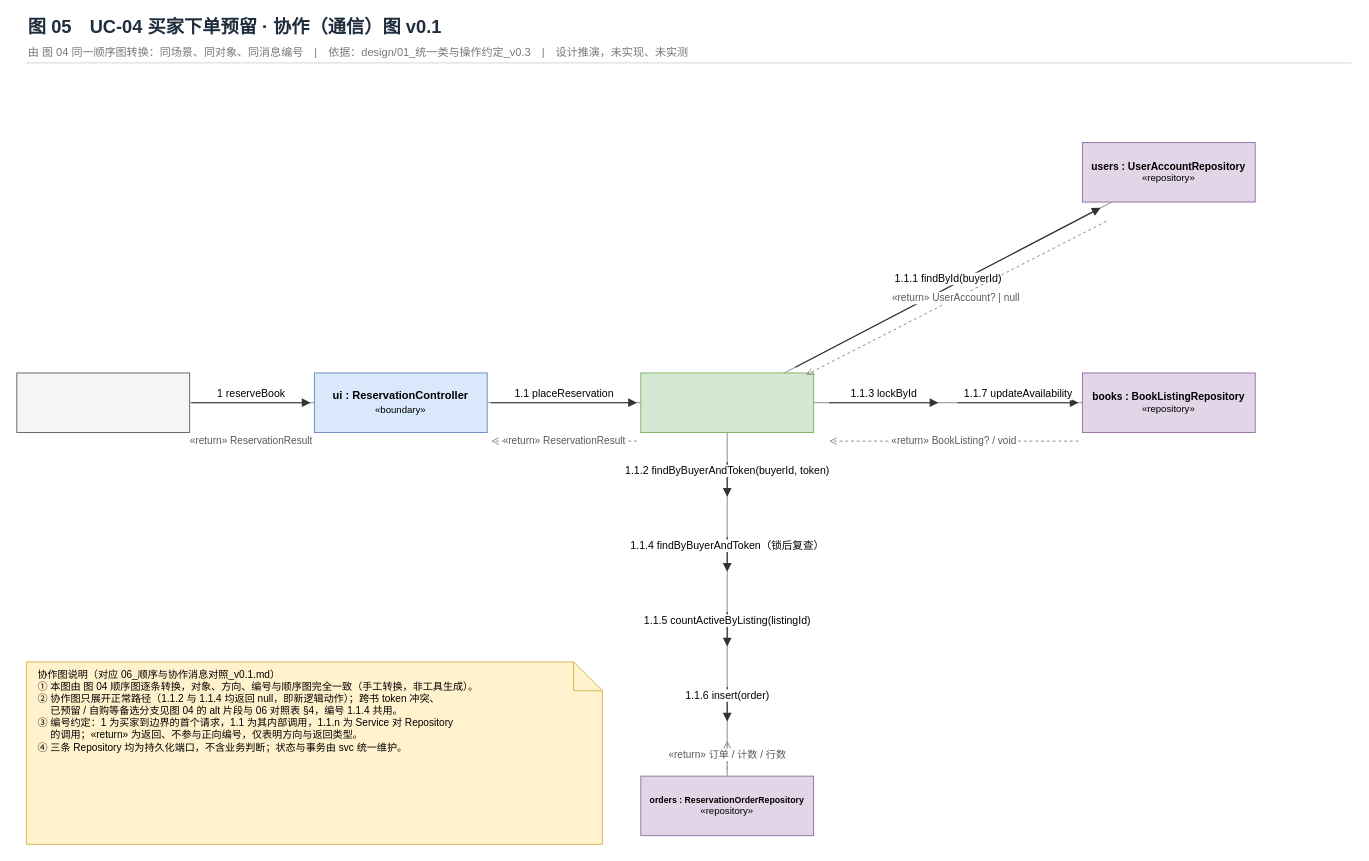
Some shapes in this 1369 by 861 pixel diagram are drawn without their labels. The centre of each missing label's shape, as x and y in pixels:
buyer : 买家 «actor»: pixel 103 402
svc : ReservationService «control»: pixel 727 402
